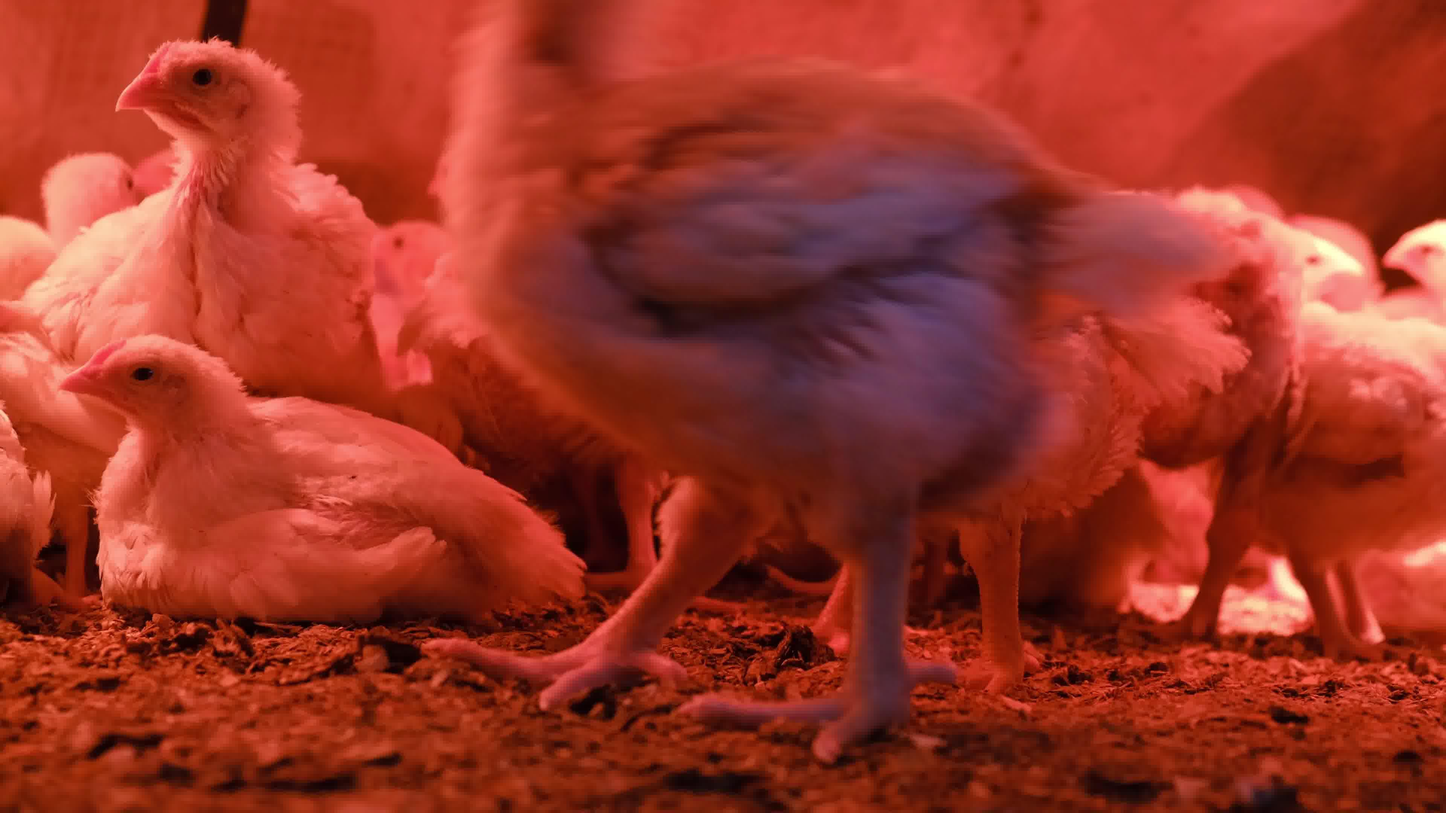AbNormal: (24, 324, 593, 642), (0, 286, 66, 649)
Normal: (424, 0, 1222, 770), (70, 17, 416, 359), (1231, 280, 1438, 683), (1196, 181, 1401, 352), (343, 226, 495, 356), (24, 134, 160, 260), (2, 186, 109, 314), (1354, 207, 1446, 331)
